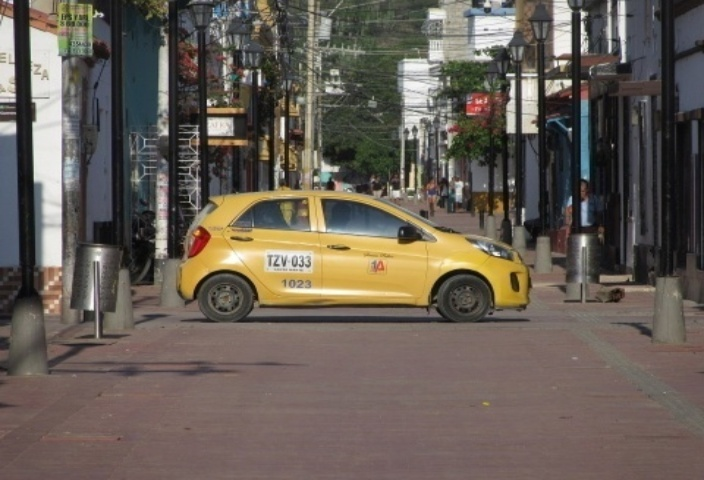taxi: (170, 181, 555, 327)
